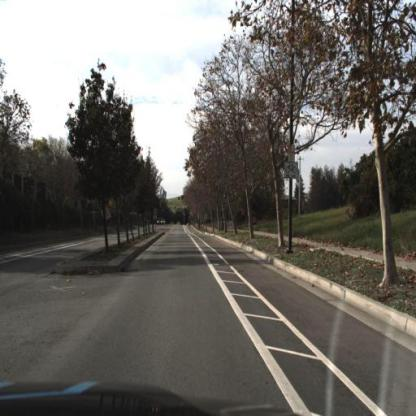car: (157, 219, 164, 228)
